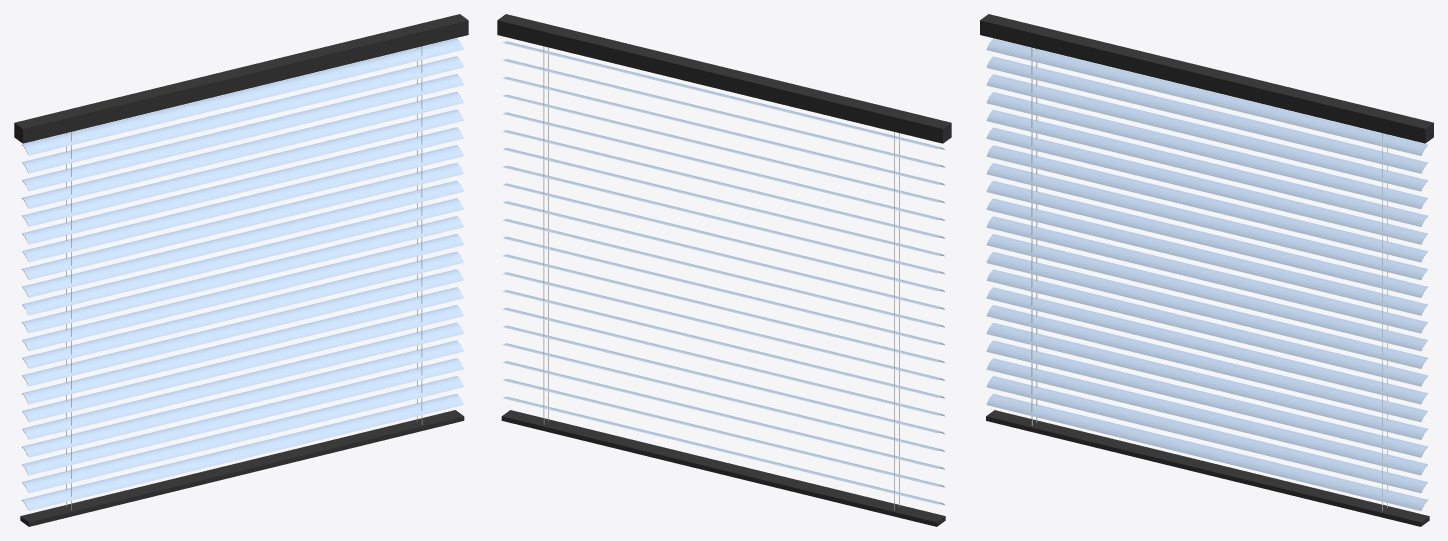
File: OfficeBlinds.FBX
The picture shows the model from 3 angles, left to right: view 1: azimuth 30°, elevation 25°; view 2: azimuth 150°, elevation 25°; view 3: azimuth 330°, elevation 25°; orthographic projection.
Visible parts, largest first — view 1: Screen, Object002, Object019, Object011, Object006, Object009, Object010, Object015, Object018, Object001, Object005, Object007 (+10 smaller); view 2: Screen, Object004, Object008, Object021, Object003, Object005, Object013, Object016, Object020, Object001, Object002, Object007 (+10 smaller); view 3: Screen, Object018, Object001, Object005, Object008, Object012, Object016, Object021, Object002, Object003, Object006, Object010 (+10 smaller).
Part boxes in pixels (left/top/right/bottom): Screen: left=14, top=14, right=468, bottom=526; Object002: left=22, top=56, right=463, bottom=173; Object019: left=22, top=358, right=463, bottom=475; Object011: left=21, top=216, right=463, bottom=333; Object006: left=22, top=127, right=463, bottom=244; Object009: left=22, top=180, right=463, bottom=297; Object010: left=22, top=198, right=463, bottom=315; Object015: left=22, top=287, right=463, bottom=404; Object018: left=21, top=340, right=463, bottom=457; Object001: left=22, top=38, right=463, bottom=155; Object005: left=22, top=109, right=463, bottom=226; Object007: left=22, top=145, right=463, bottom=262; Screen: left=497, top=14, right=951, bottom=526; Object004: left=503, top=94, right=944, bottom=203; Object008: left=503, top=165, right=944, bottom=274; Object021: left=503, top=396, right=944, bottom=505; Object003: left=503, top=77, right=944, bottom=185; Object005: left=503, top=112, right=944, bottom=220; Object013: left=503, top=254, right=944, bottom=362; Object016: left=503, top=307, right=944, bottom=416; Object020: left=503, top=379, right=944, bottom=487; Object001: left=503, top=41, right=944, bottom=149; Object002: left=503, top=59, right=944, bottom=167; Object007: left=503, top=148, right=944, bottom=256; Screen: left=980, top=14, right=1433, bottom=526; Object018: left=986, top=340, right=1427, bottom=457; Object001: left=986, top=38, right=1427, bottom=155; Object005: left=986, top=109, right=1427, bottom=226; Object008: left=986, top=163, right=1427, bottom=280; Object012: left=986, top=234, right=1427, bottom=351; Object016: left=986, top=305, right=1427, bottom=422; Object021: left=986, top=393, right=1427, bottom=510; Object002: left=986, top=56, right=1427, bottom=173; Object003: left=986, top=74, right=1427, bottom=191; Object006: left=986, top=127, right=1427, bottom=244; Object010: left=986, top=198, right=1427, bottom=315.
Bounding box in the file's own units: 114 × 98 × 3.83.
